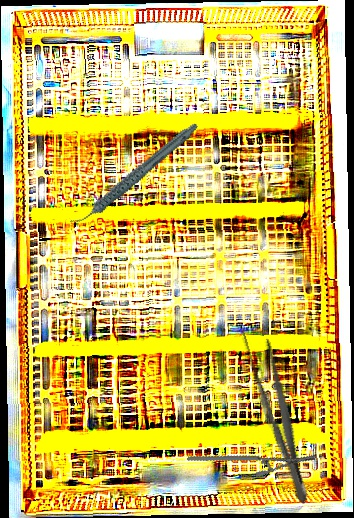Dressing Forceps: (237, 325, 319, 508)
Handpiece: (54, 120, 214, 228)
Needle Holder: (186, 415, 317, 500)
